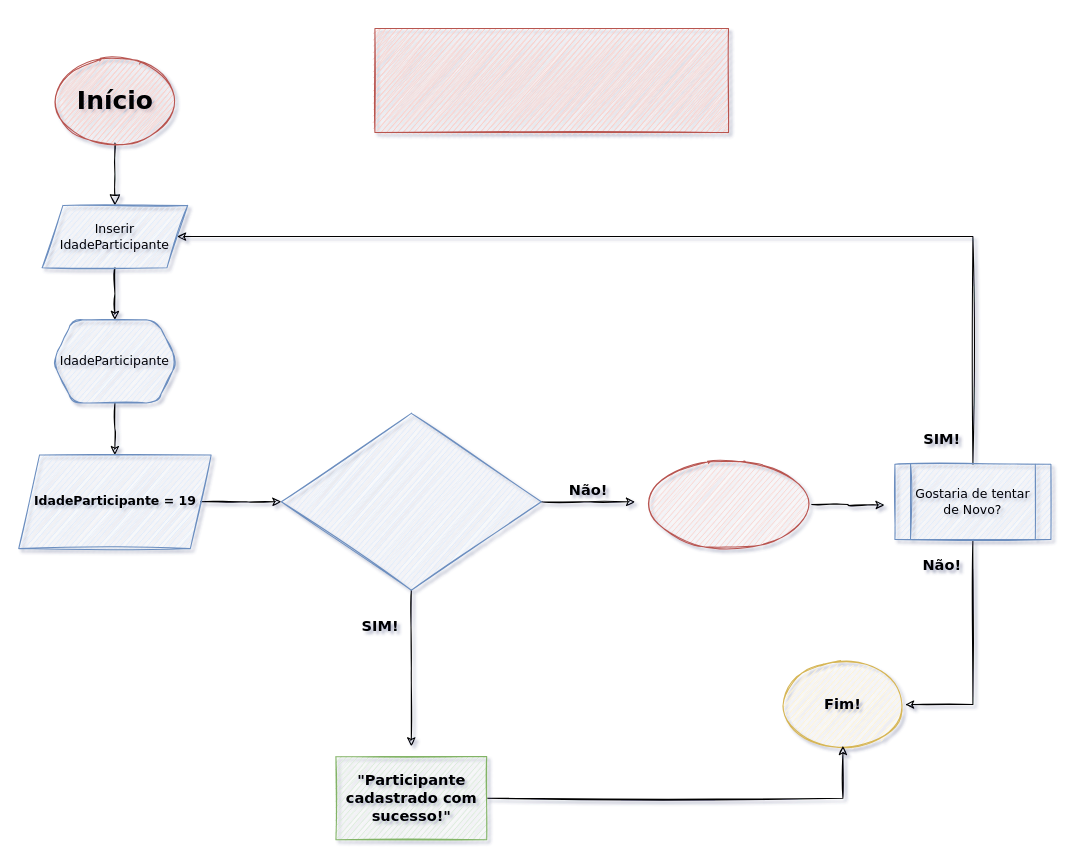
This 1075x864 diagram has some shape labels left out. The shapes that lost their labels are listed below. From the top down, each one's centre as x and y in pixels, then its label:
pixel 551 80: Sistema de cadastro de para eventos Cadastro por IDADES dos participantes
pixel 410 501: IdadeParticipante é maior que 18?
pixel 728 504: "Idade Não atende os requisitos do Evento"
